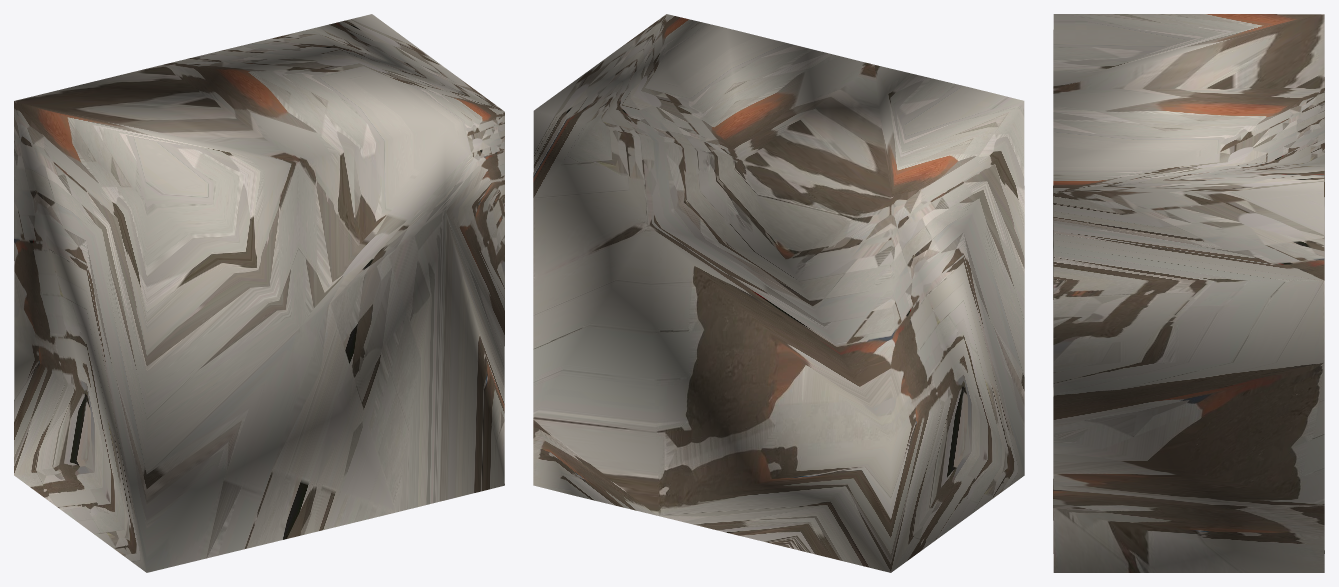
File: walkseg_lod1.glb
3 views of the same model, side by side, from view 1: azimuth 30°, elevation 25°; view 2: azimuth 150°, elevation 25°; view 3: azimuth 270°, elevation 25° (orthographic).
Bounding box in the file's own units: 1.9 × 1.9 × 1.23.
Materials: 1 (1 with a texture image).
